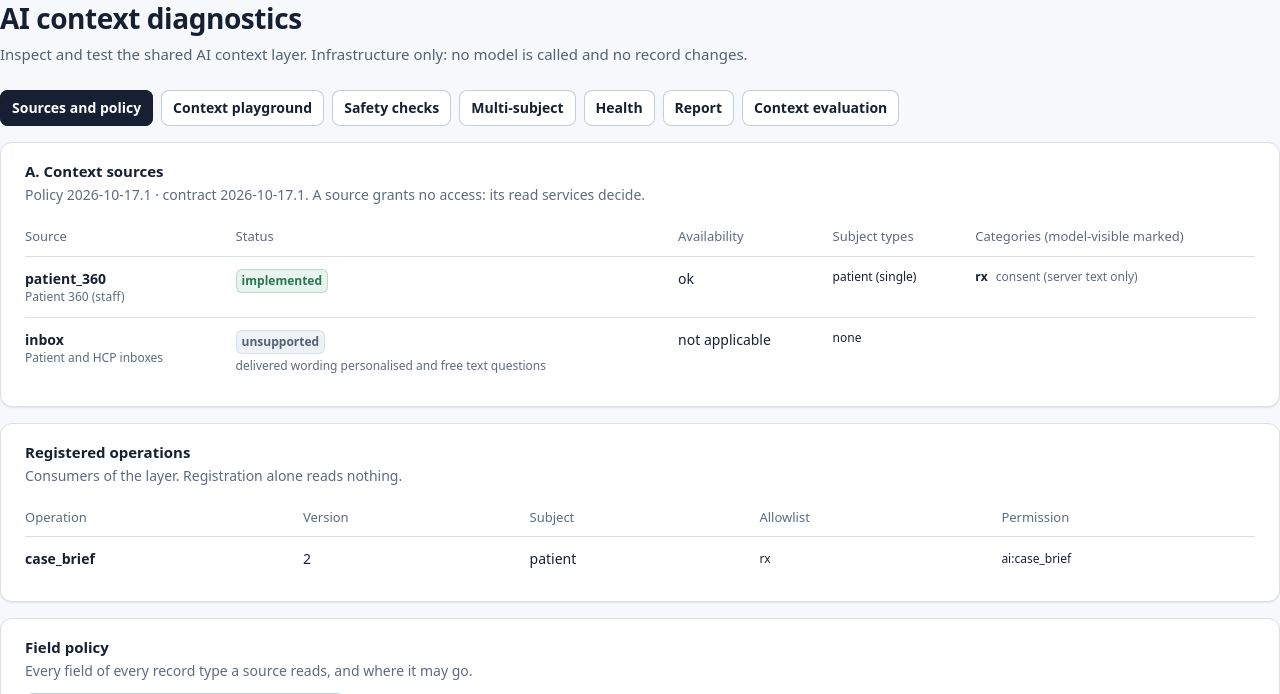
Test: AI context diagnostics › labels missing telemetry as unavailable, never healthy
Click the tab "Health".
click(619, 108)  # box top-left (584, 90), bottom-right (655, 126)
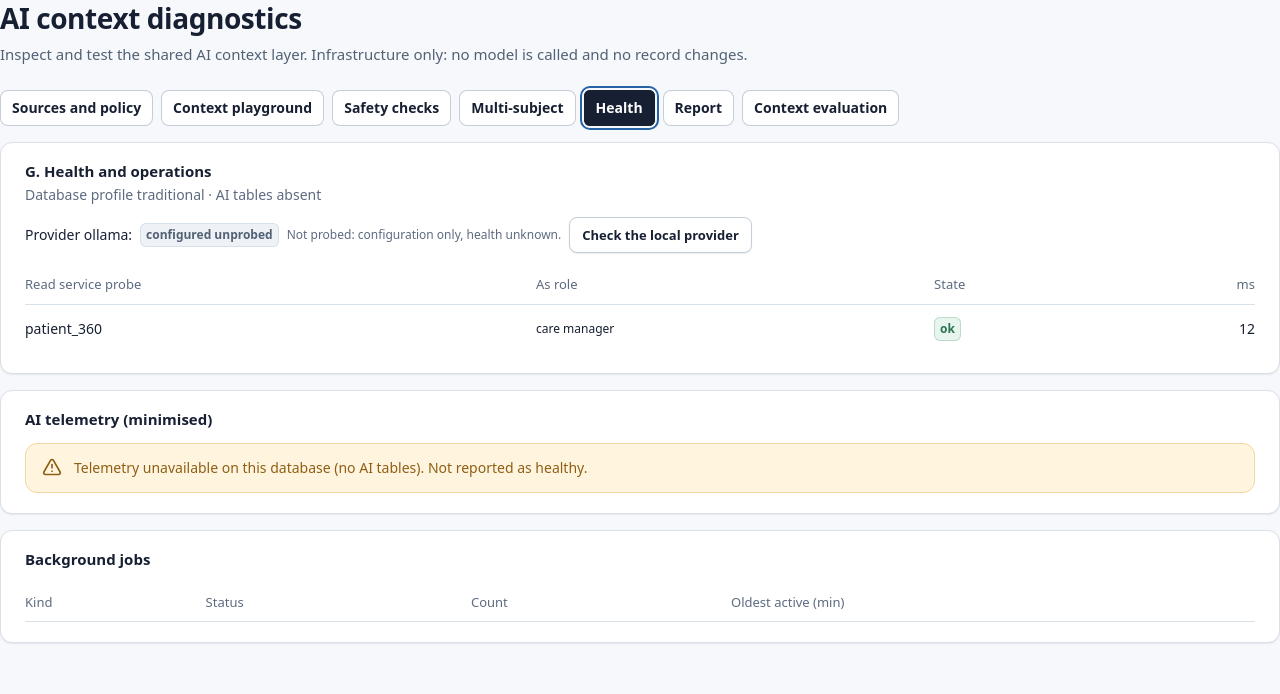
Expected: the text "Not reported as healthy" is shown, top-left (74, 458), bottom-right (587, 477)
Expected: the text "Not probed: configuration only, health unknown." is shown, top-left (287, 227), bottom-right (561, 243)
